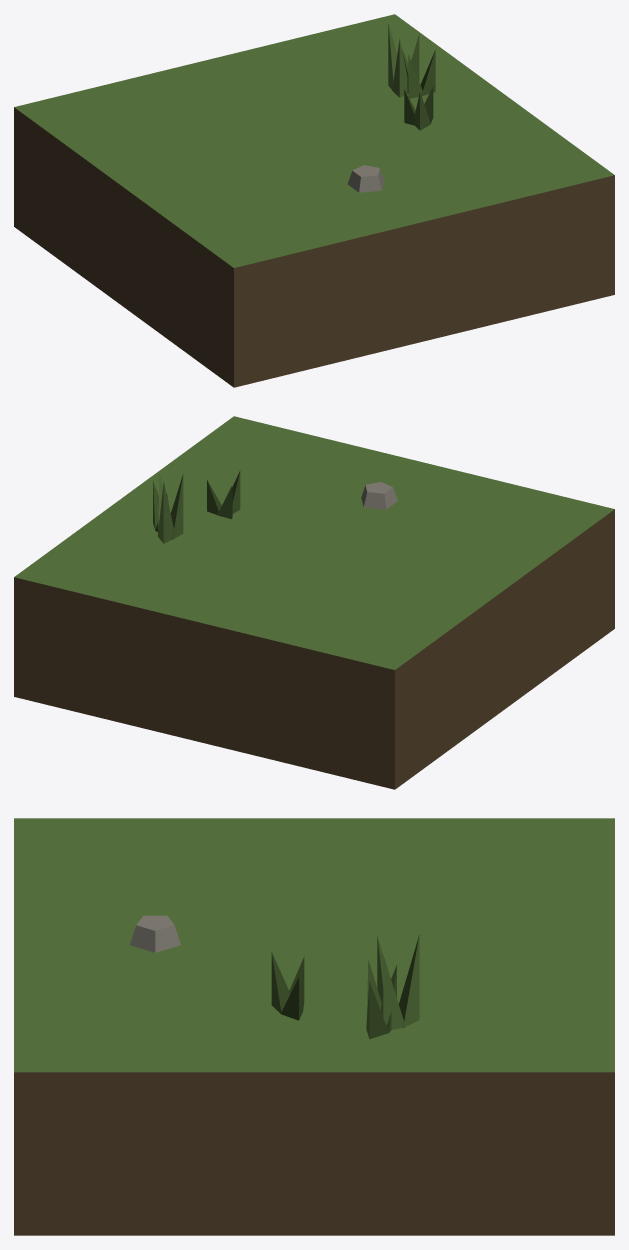
The model's file is tile_grass_3.glb.
3 views of the same model, one above another, from view 1: azimuth 30°, elevation 25°; view 2: azimuth 150°, elevation 25°; view 3: azimuth 270°, elevation 25° (orthographic). The views are drawn at different scales.
Visible parts, largest first — view 1: tile_grass_3; view 2: tile_grass_3; view 3: tile_grass_3.
Part boxes in pixels (left/top/right/bottom): tile_grass_3: left=14, top=14, right=614, bottom=387; tile_grass_3: left=14, top=416, right=614, bottom=789; tile_grass_3: left=14, top=818, right=614, bottom=1235.
Size of the model in its own units: 1 by 0.4584 by 1.
